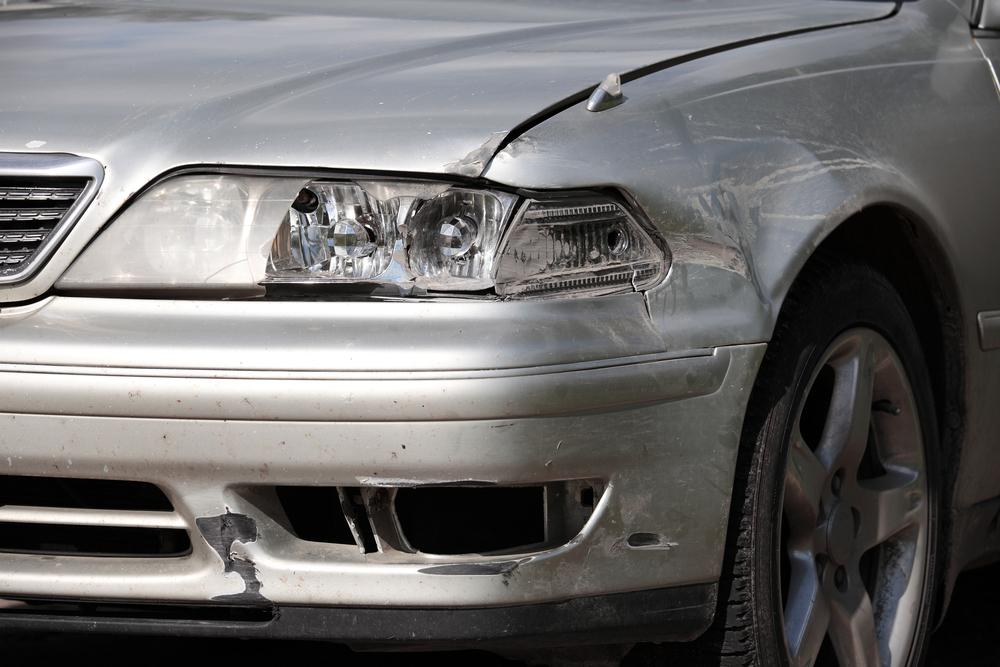dent: (644, 141, 827, 322)
lamp broken: (51, 172, 664, 299)
scratch: (192, 509, 279, 605), (409, 551, 545, 582)
